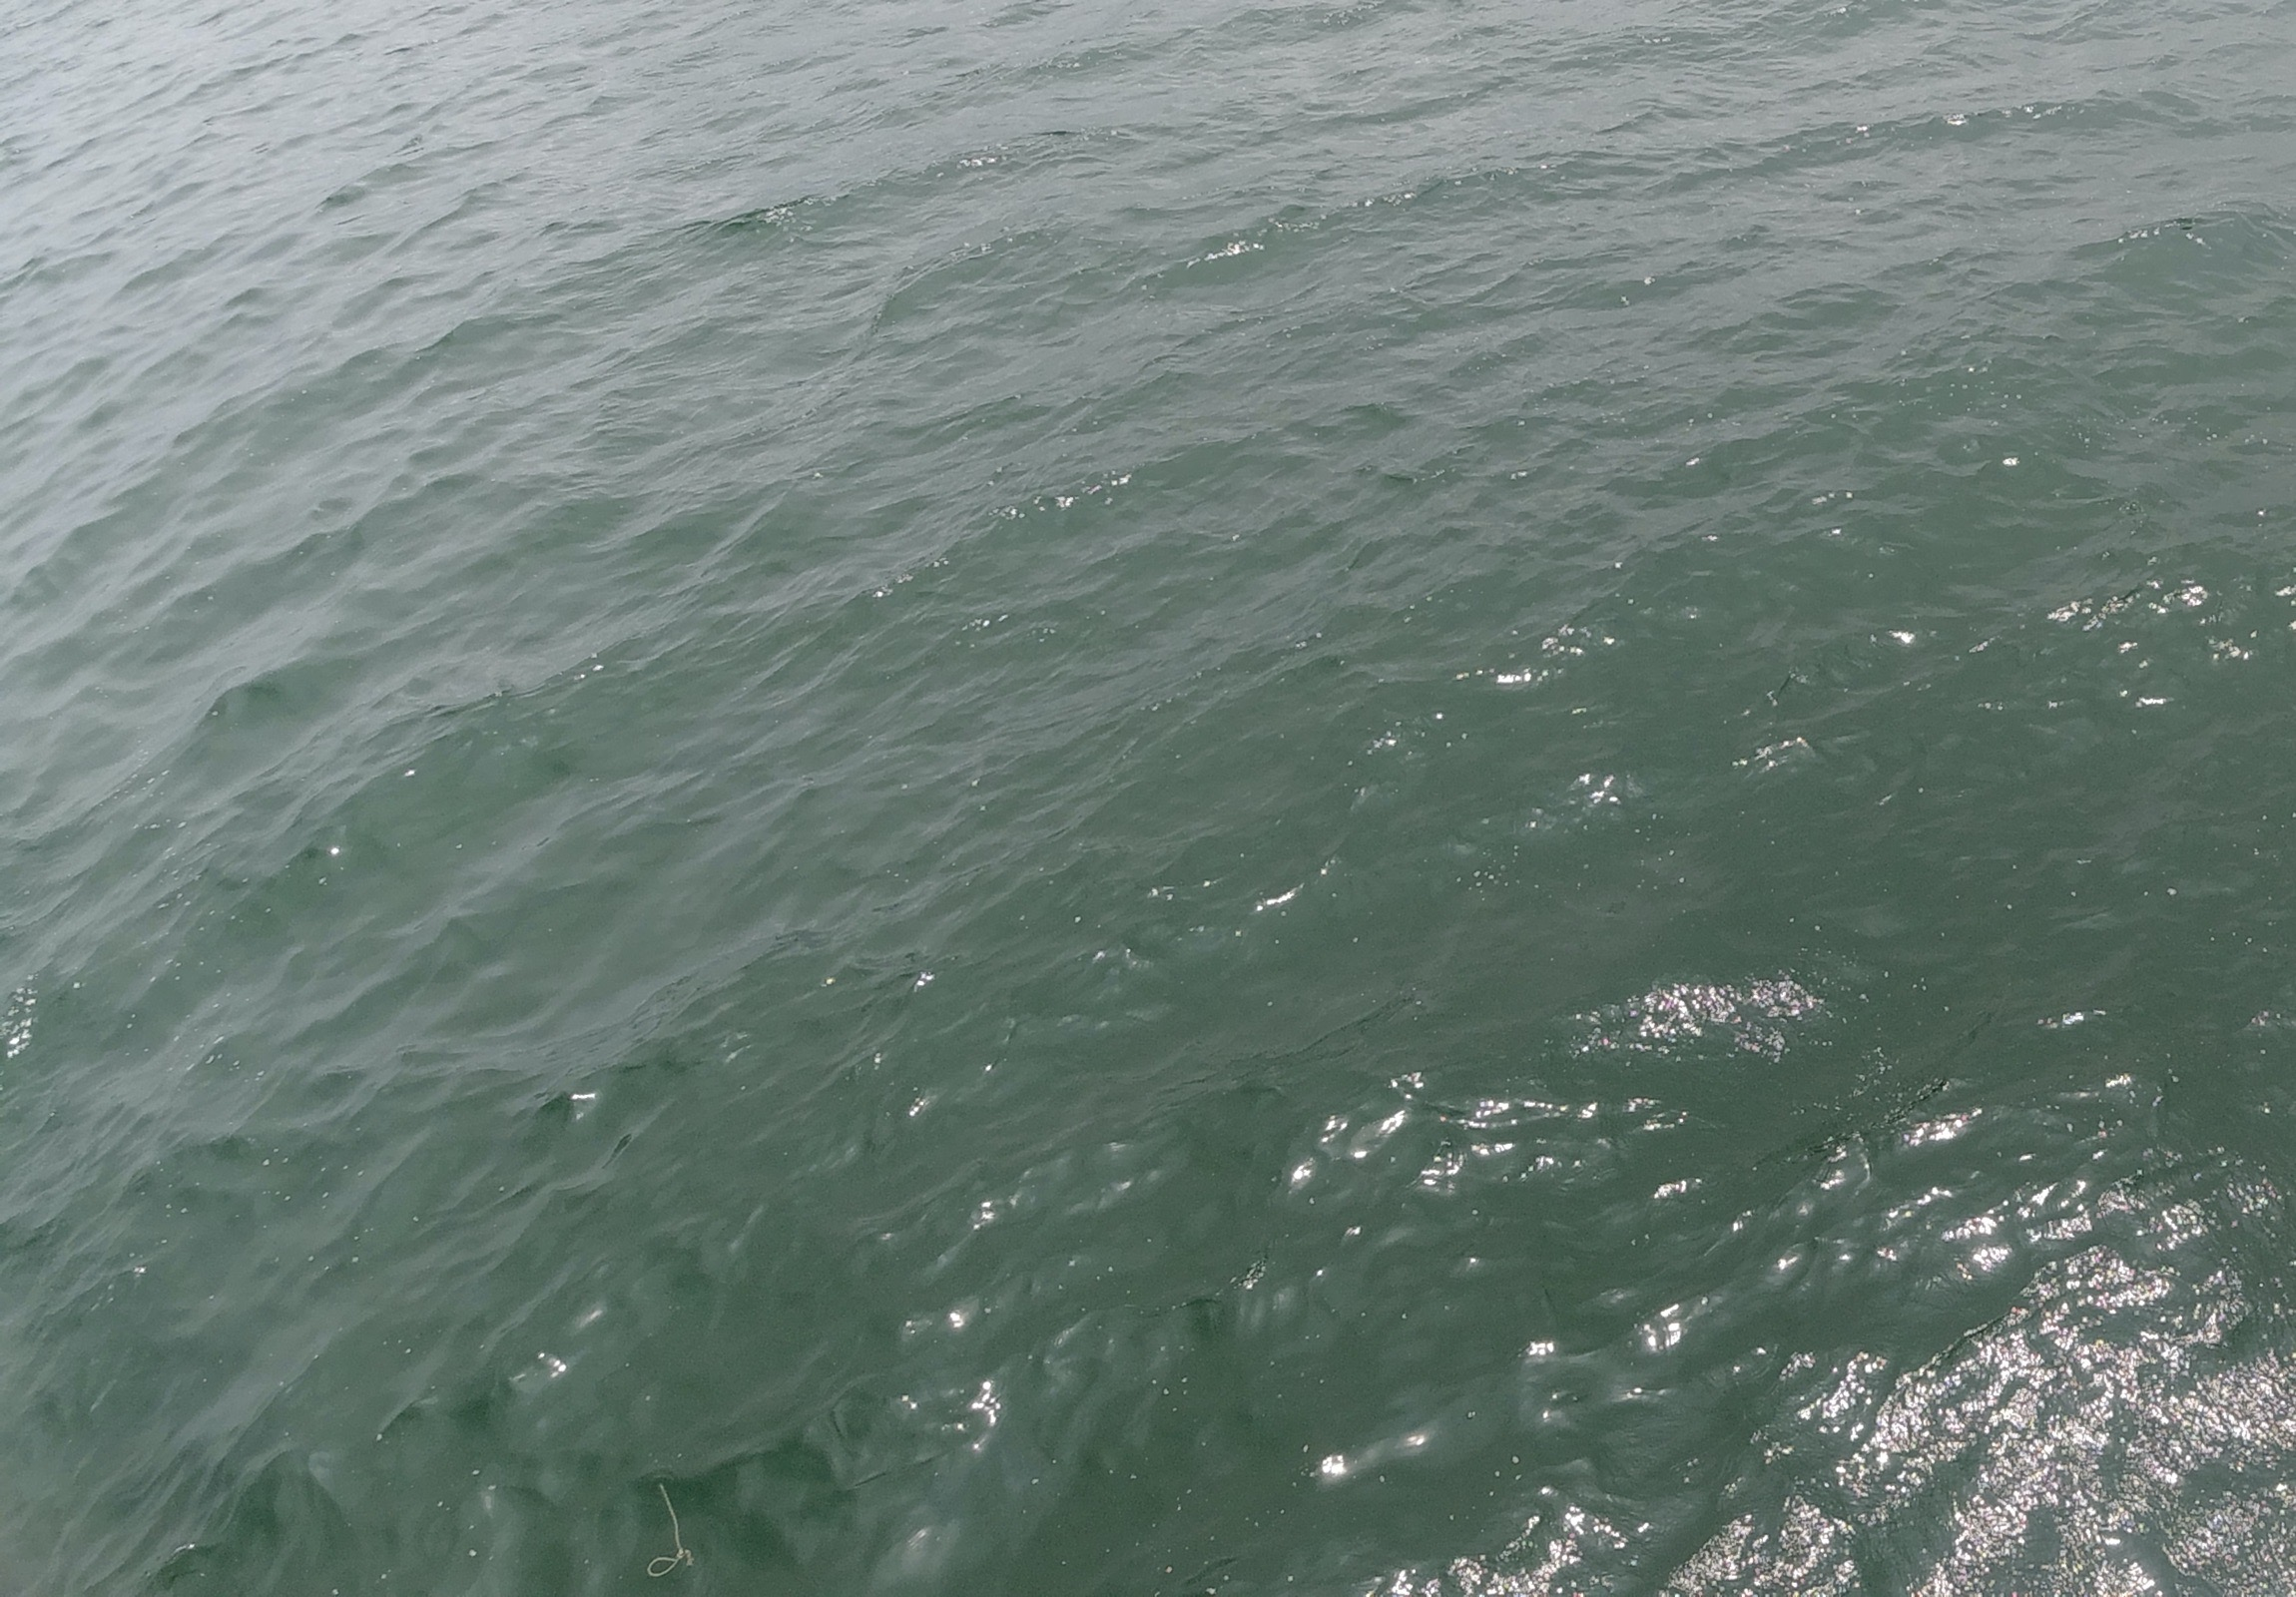plastic: (630, 1464, 708, 1587)
